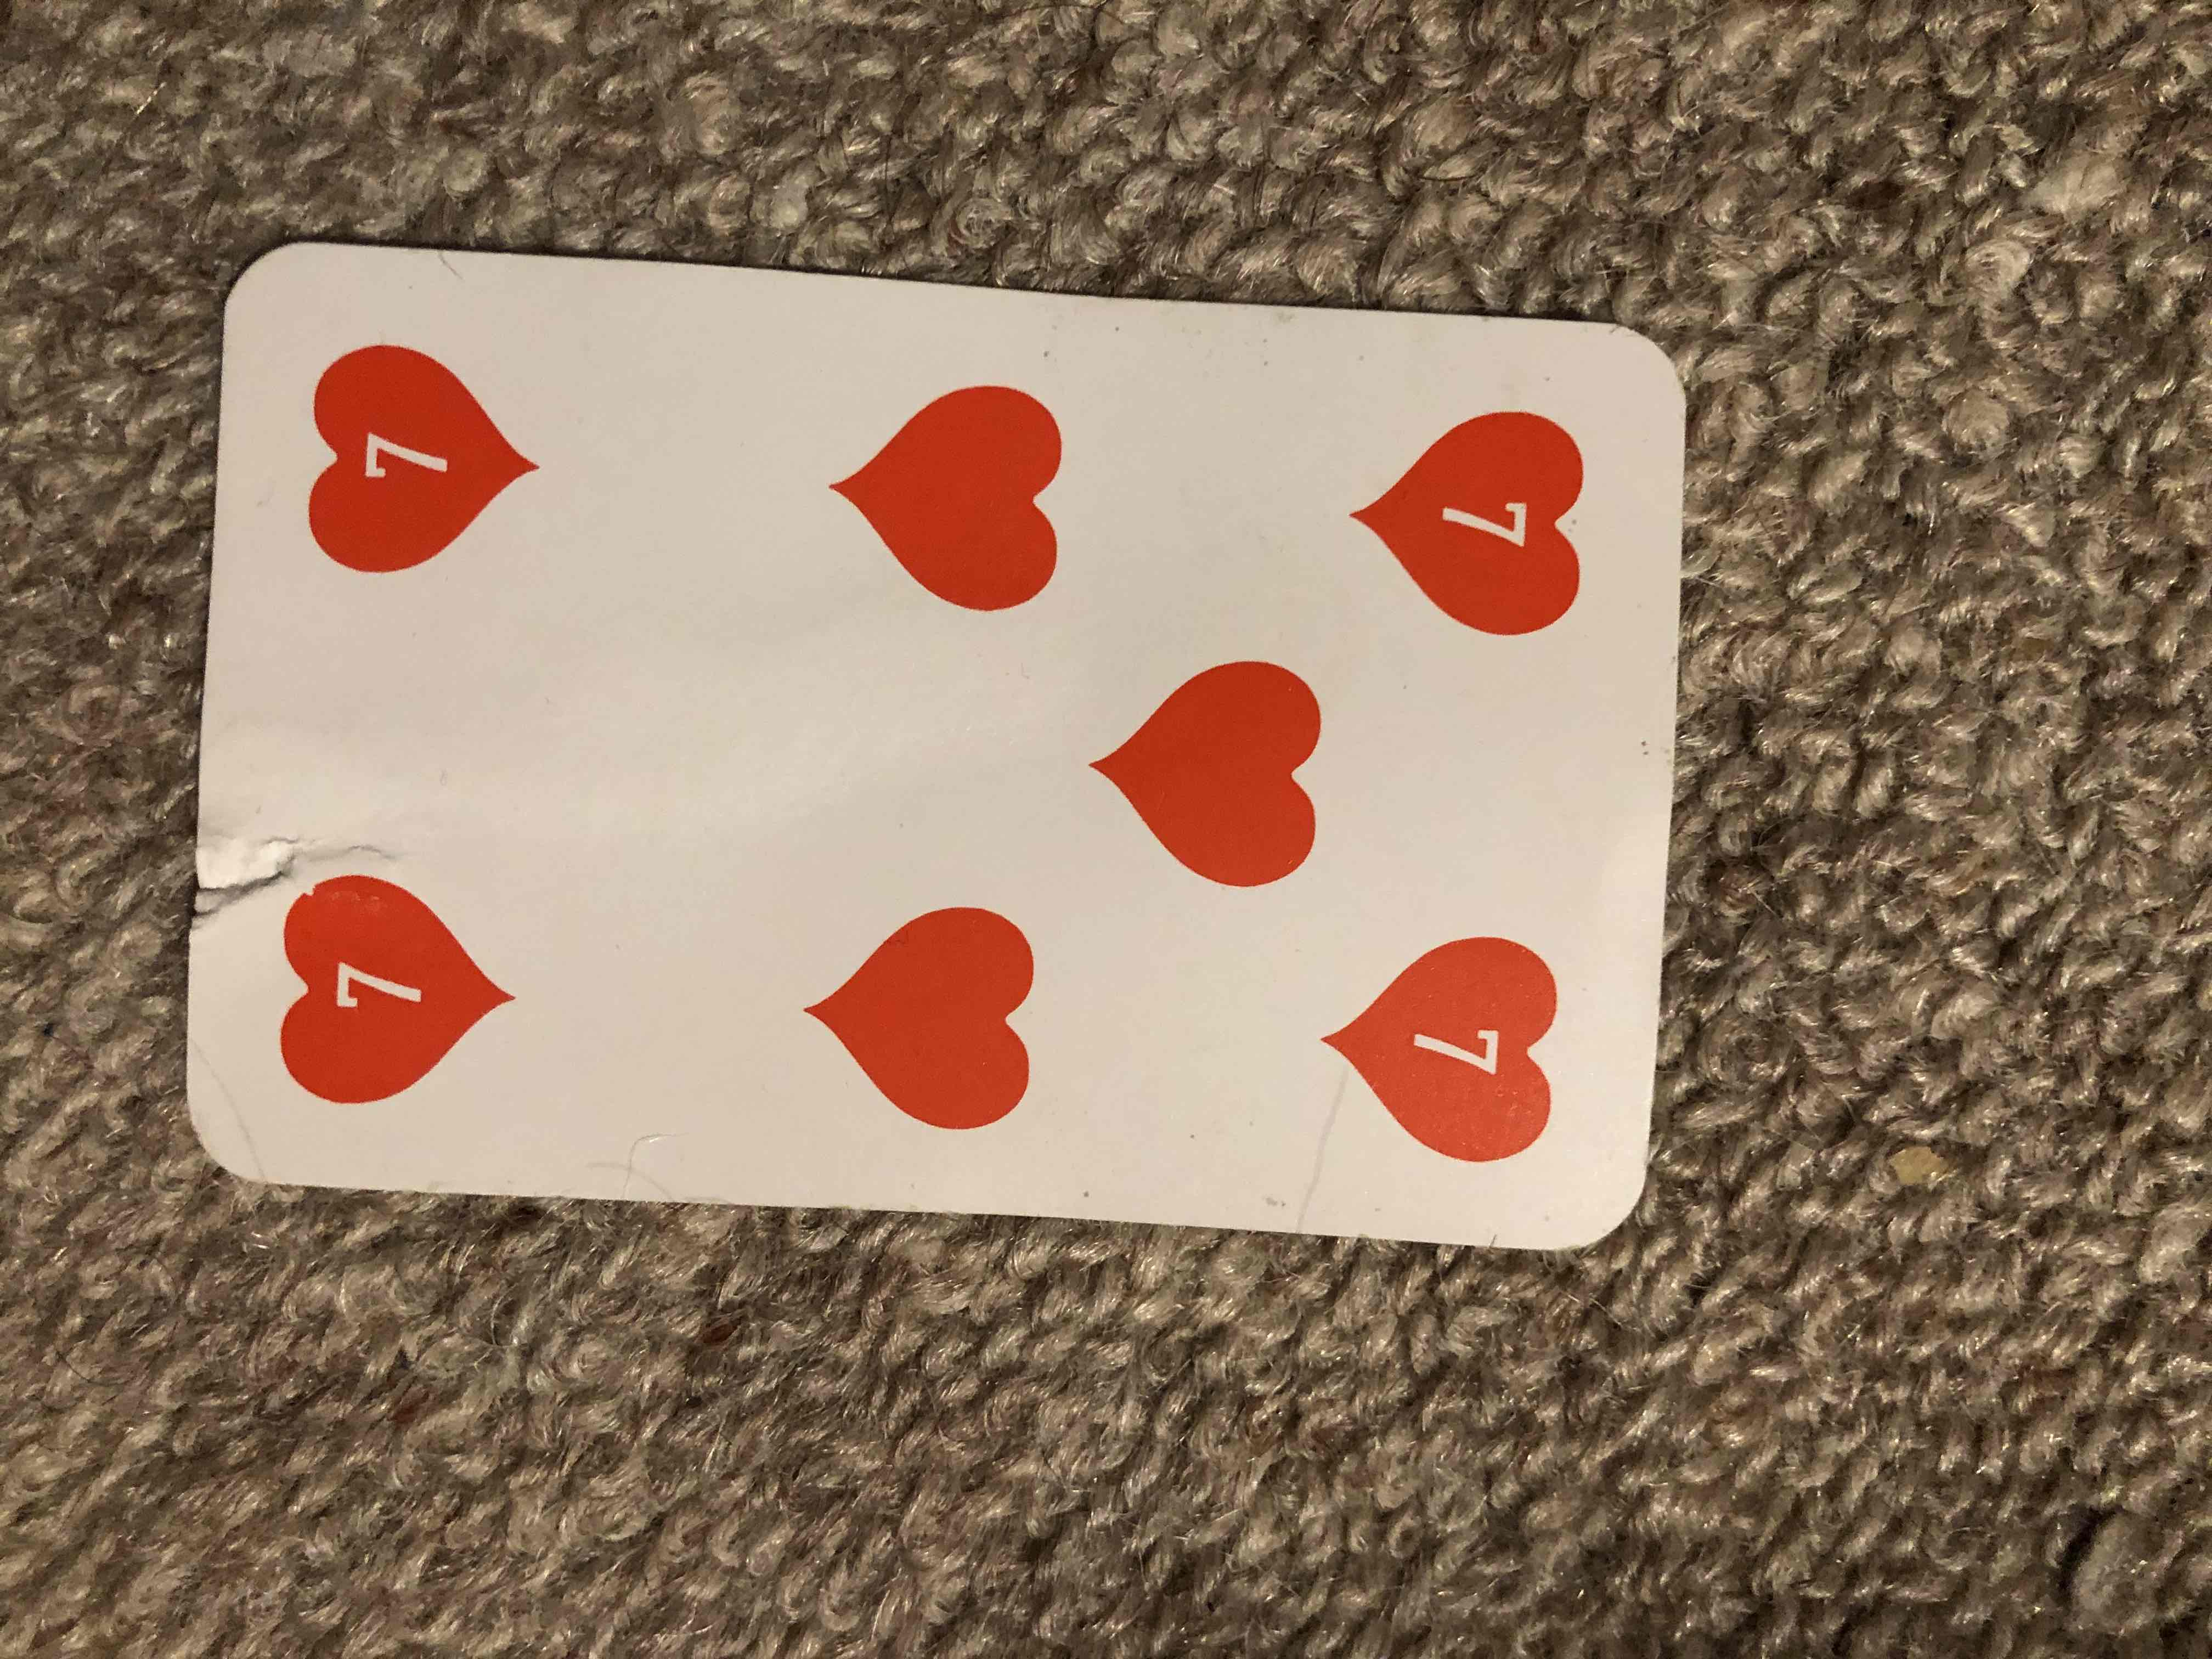hearts7: (209, 218, 1672, 1244)
